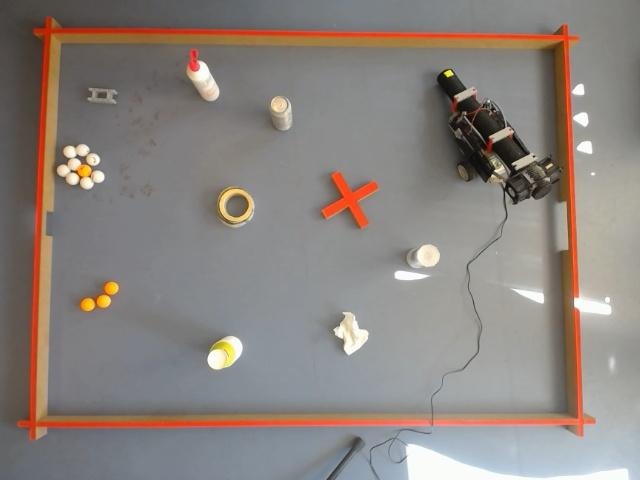orange: (78, 296, 98, 314), (96, 293, 114, 312), (102, 280, 120, 297), (76, 164, 92, 178)
robot: (438, 70, 563, 204)
robot-front: (437, 69, 463, 96)
white: (75, 143, 90, 158), (66, 170, 80, 186), (92, 168, 106, 184), (80, 174, 94, 190), (87, 151, 101, 167), (70, 154, 82, 172), (62, 144, 75, 159), (56, 164, 68, 178)
